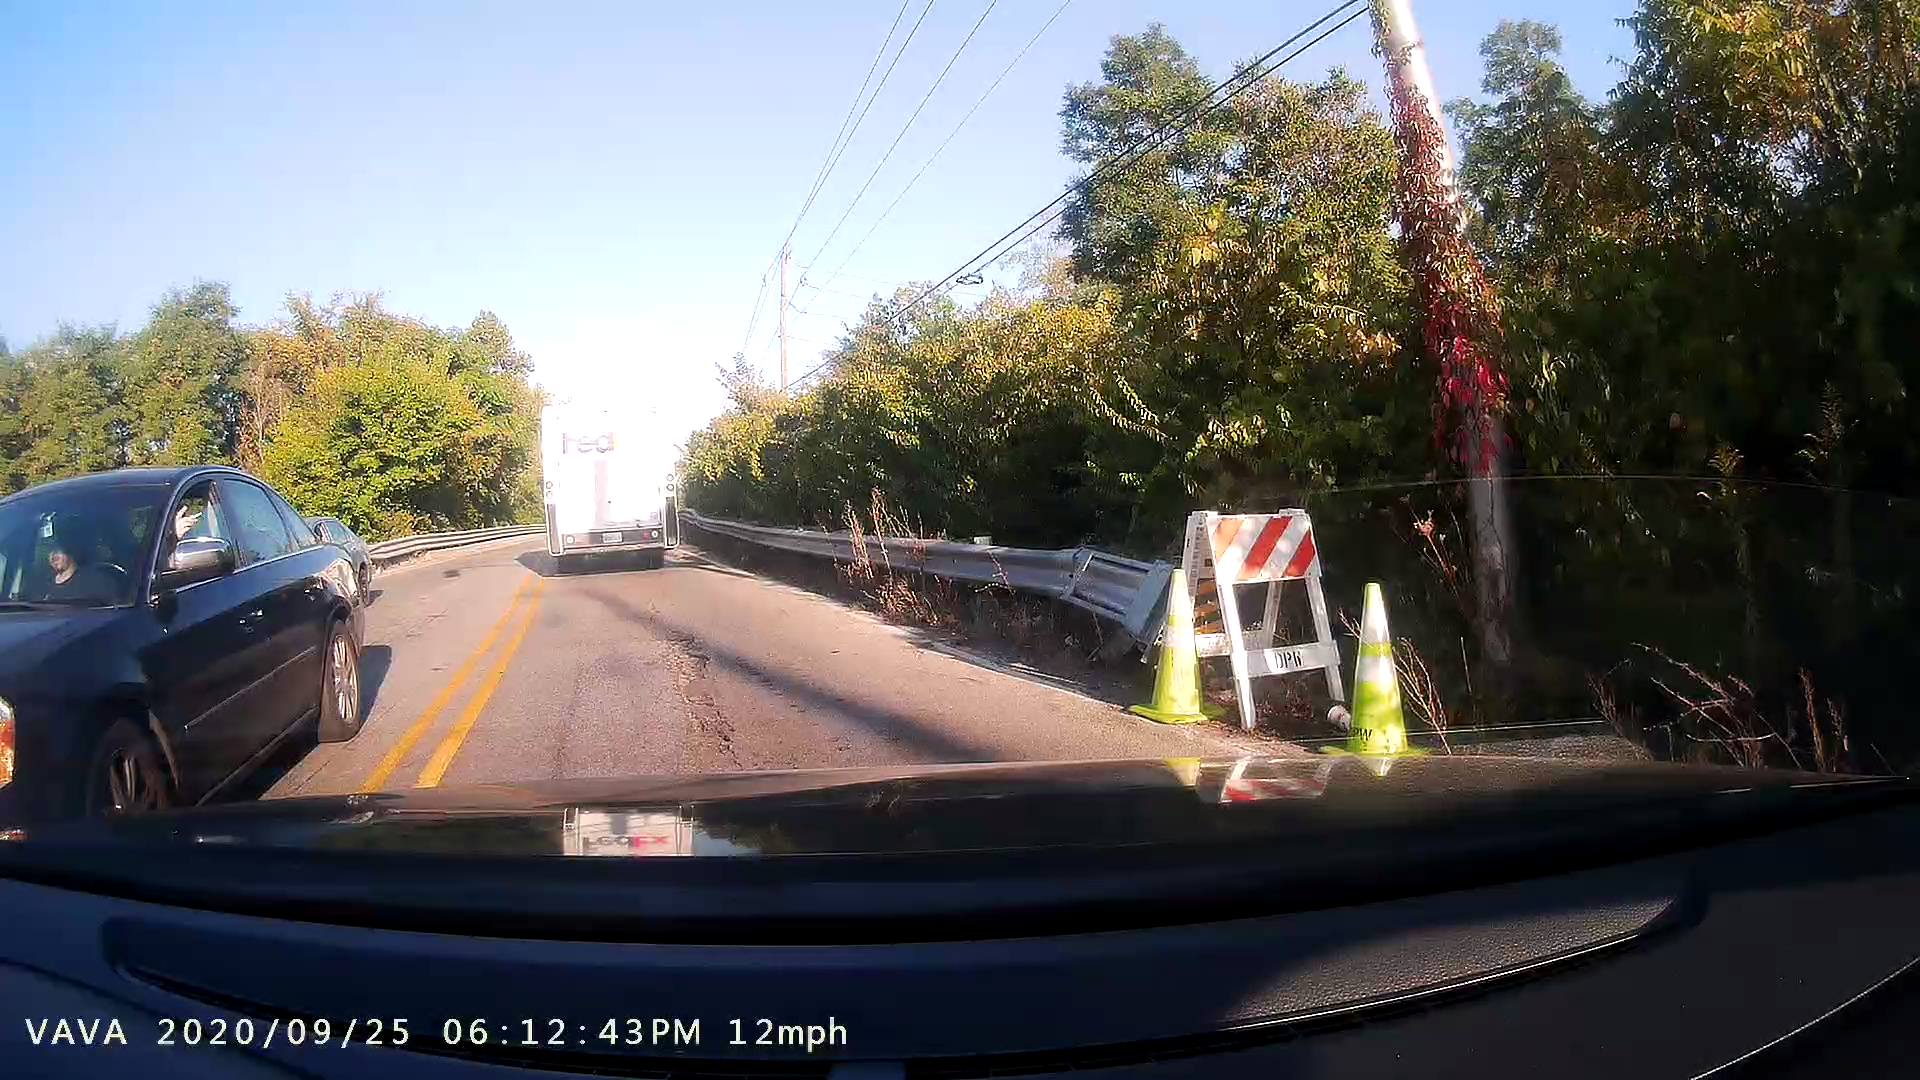const_cone: (1121, 562, 1236, 735)
